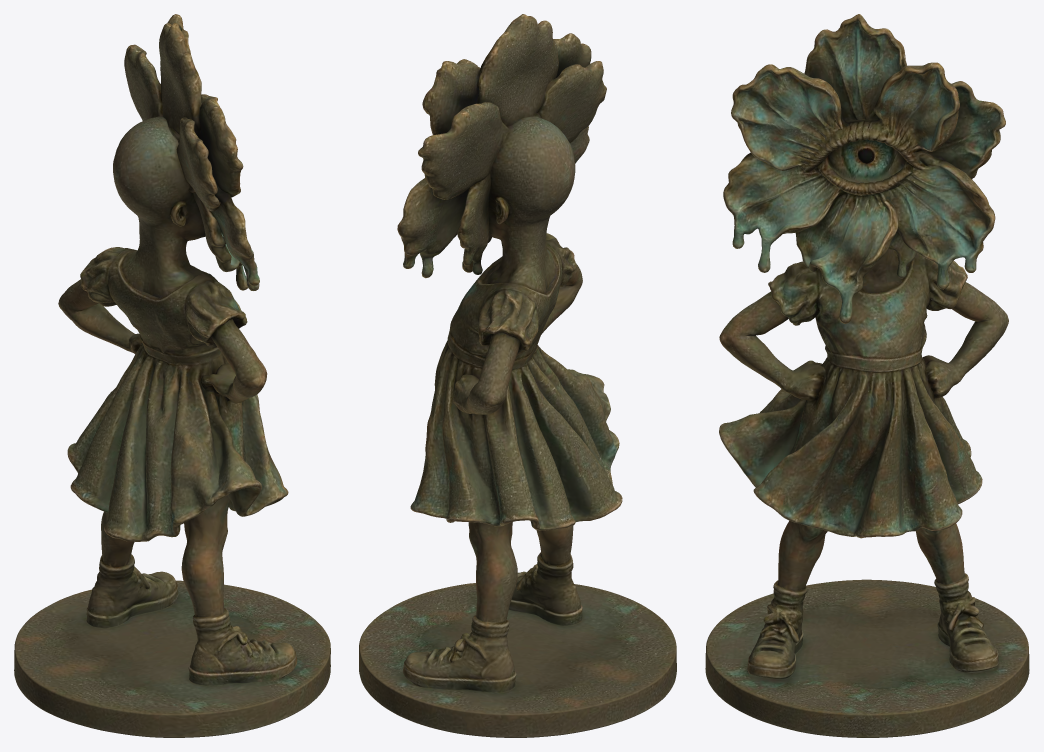
Rendered from oy_girl.glb.
The picture shows the model from 3 angles, left to right: view 1: azimuth 30°, elevation 25°; view 2: azimuth 150°, elevation 25°; view 3: azimuth 270°, elevation 25°; orthographic projection.
Parts seen in each view (by area): view 1: tripo_node_0cce6f97-f69d-46b6-be51-bbbc921bc4a1; view 2: tripo_node_0cce6f97-f69d-46b6-be51-bbbc921bc4a1; view 3: tripo_node_0cce6f97-f69d-46b6-be51-bbbc921bc4a1.
Part boxes in pixels (x1,y1,x2,y2): tripo_node_0cce6f97-f69d-46b6-be51-bbbc921bc4a1: [14, 14, 330, 737]; tripo_node_0cce6f97-f69d-46b6-be51-bbbc921bc4a1: [359, 14, 676, 737]; tripo_node_0cce6f97-f69d-46b6-be51-bbbc921bc4a1: [705, 14, 1029, 737].
Size of the model in its own units: 0.442 by 1 by 0.4474.
Materials: 1 (1 with a texture image).
